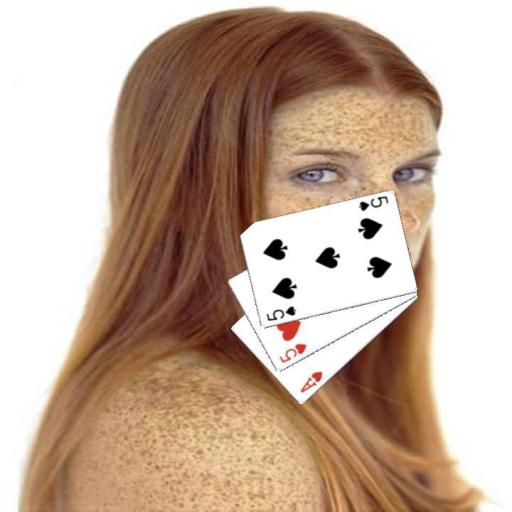5H: (276, 341, 308, 365)
5S: (355, 193, 390, 213), (263, 303, 297, 323)
AH: (298, 368, 325, 395)
